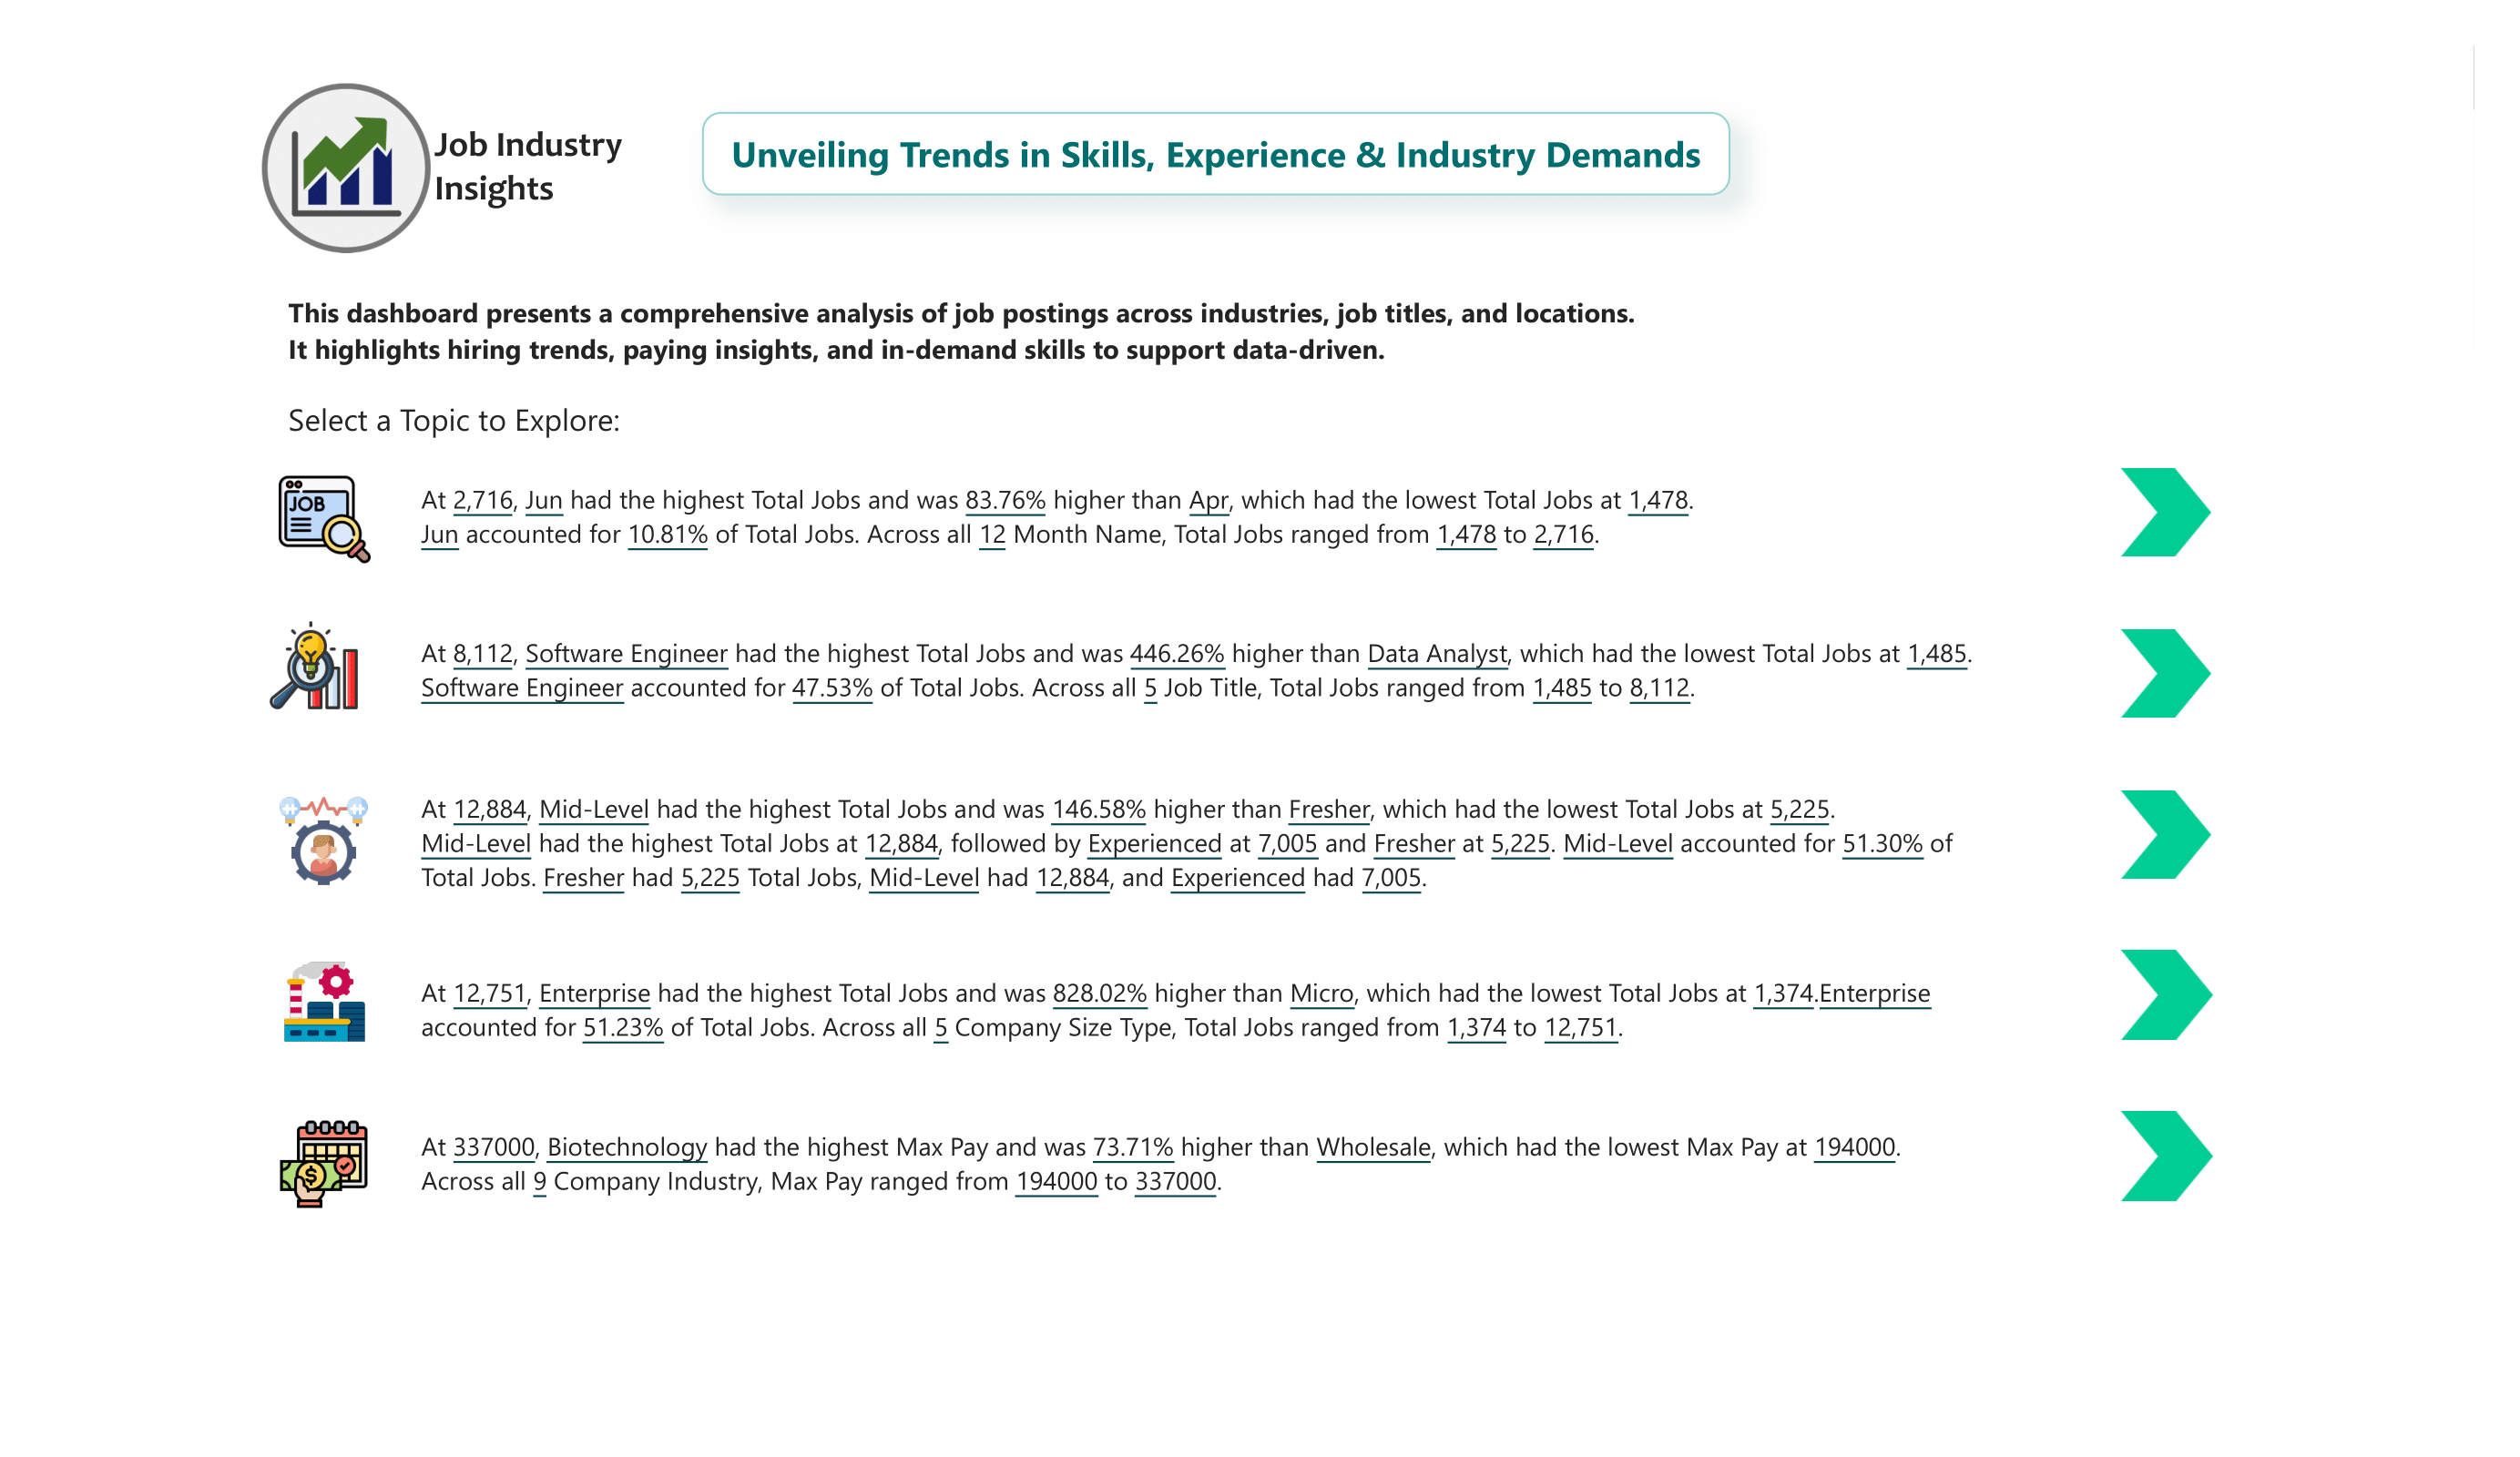

The page's visual inventory and layout, read from the dashboard file:
{"tool":"powerbi","page":{"name":"Executive Summery","canvas":[1280,720],"ordinal":0},"visuals":[{"type":"group","id":"g1","title":"Group 1","box":[192.5,224.8,828.5,389],"z":0},{"type":"textbox","box":[192.5,565.5,828.5,48.4],"z":0,"group":"g1"},{"type":"textbox","box":[192.5,485.1,828.5,48.4],"z":1000,"group":"g1"},{"type":"image","box":[117.9,560.4,57.4,58.5],"z":1000},{"type":"textbox","box":[192.5,387.6,828.5,65.5],"z":2000,"group":"g1"},{"type":"image","box":[116.9,474.7,60.5,58.5],"z":2000},{"type":"textbox","box":[192.5,306.2,828.5,49.4],"z":3000,"group":"g1"},{"type":"image","box":[108.9,390,75.6,58.5],"z":3000},{"type":"textbox","box":[192.5,224.8,828.5,49.4],"z":4000,"group":"g1"},{"type":"image","box":[108.9,297.3,64.5,58.5],"z":4000},{"type":"image","box":[113.9,220.7,65.5,58.5],"z":5000},{"type":"textbox","box":[345.7,35.3,542.2,43.3],"z":6000},{"type":"textbox","box":[123,126,773,55.4],"z":7000},{"type":"image","box":[1065.3,557.4,104.8,56.4],"z":8000},{"type":"image","box":[1065.3,472.4,104.8,56.4],"z":9000},{"type":"image","box":[1065.3,387.5,104.8,56.4],"z":10000},{"type":"image","box":[1065.3,302.6,104.8,56.4],"z":11000},{"type":"image","box":[1065.3,217.7,104.8,56.4],"z":12000},{"type":"textbox","box":[123,181.4,197.5,40.3],"z":13000},{"type":"image","box":[15.5,15.5,286.4,98.2],"z":14000},{"type":"textbox","box":[200,35.5,117.3,61.8],"z":15000}]}

Visuals, with their boxes on the page's 1280x720 design canvas (x1, y1, x2, y2). These are canvas units, not pixel positions in the 2520x1457 screenshot, which may show the page scaled, cropped or inside an application window:
"Group 1" group: box=[192, 225, 1021, 614]
textbox: box=[192, 566, 1021, 614]
textbox: box=[192, 485, 1021, 534]
image: box=[118, 560, 175, 619]
textbox: box=[192, 388, 1021, 453]
image: box=[117, 475, 177, 533]
textbox: box=[192, 306, 1021, 356]
image: box=[109, 390, 184, 448]
textbox: box=[192, 225, 1021, 274]
image: box=[109, 297, 173, 356]
image: box=[114, 221, 179, 279]
textbox: box=[346, 35, 888, 79]
textbox: box=[123, 126, 896, 181]
image: box=[1065, 557, 1170, 614]
image: box=[1065, 472, 1170, 529]
image: box=[1065, 388, 1170, 444]
image: box=[1065, 303, 1170, 359]
image: box=[1065, 218, 1170, 274]
textbox: box=[123, 181, 320, 222]
image: box=[16, 16, 302, 114]
textbox: box=[200, 36, 317, 97]
